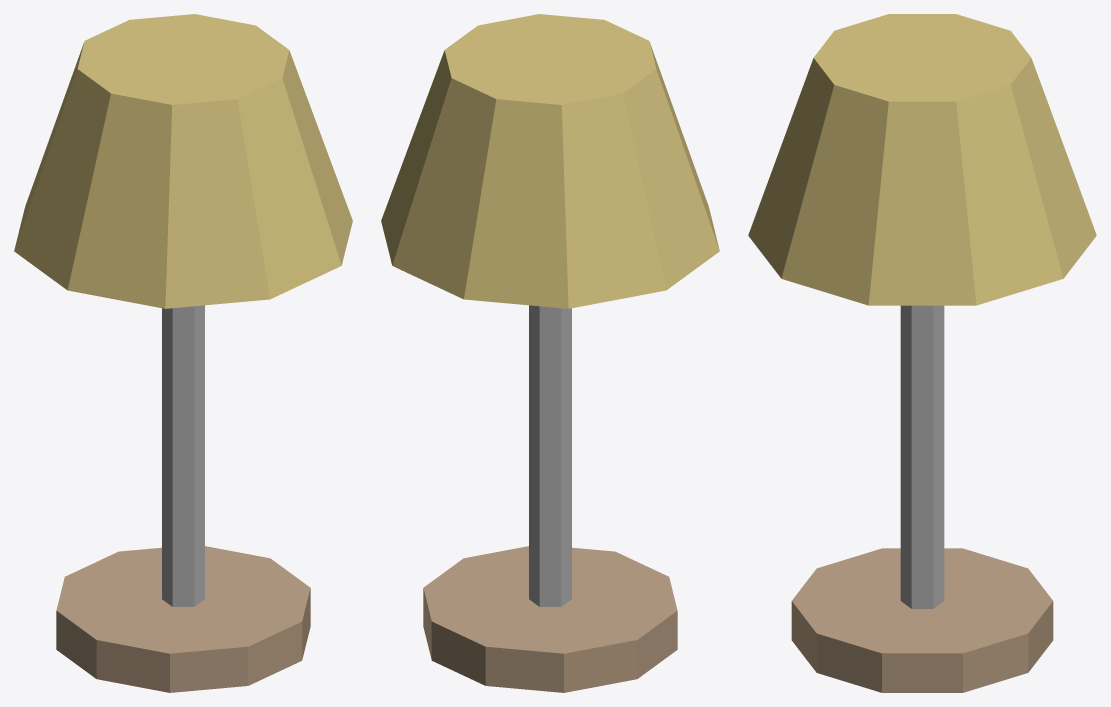
The model's file is kid_abajur_inf.glb.
The picture shows the model from 3 angles, left to right: view 1: azimuth 30°, elevation 25°; view 2: azimuth 150°, elevation 25°; view 3: azimuth 270°, elevation 25°; orthographic projection.
Visible parts, largest first — view 1: KID_ABAJUR_INF_v01; view 2: KID_ABAJUR_INF_v01; view 3: KID_ABAJUR_INF_v01.
Boxes of the visible parts, x1,y1,x2,y2 form: KID_ABAJUR_INF_v01: (14, 14, 352, 692); KID_ABAJUR_INF_v01: (381, 14, 719, 692); KID_ABAJUR_INF_v01: (748, 14, 1096, 692).
Size of the model in its own units: 0.3043 by 0.59 by 0.32.
